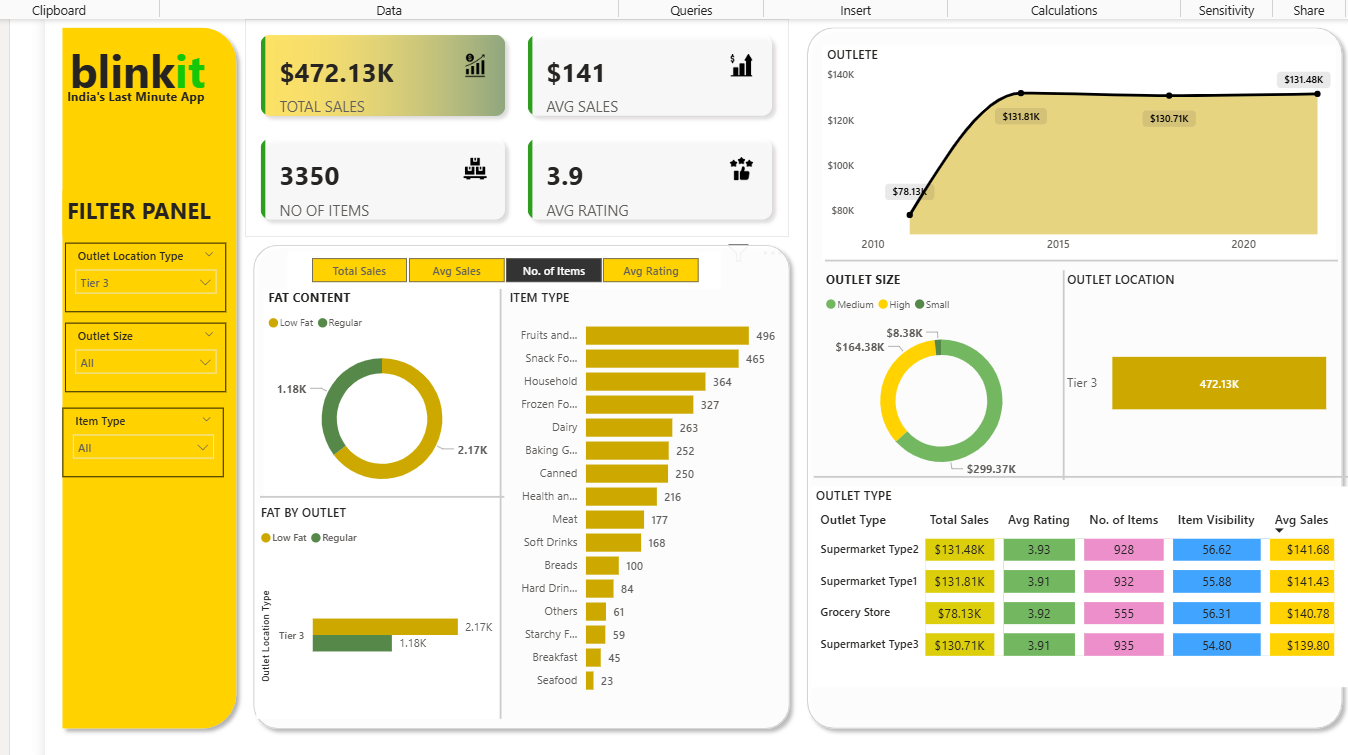

This screenshot's page, from the dashboard's own definition file:
{"tool":"powerbi","page":{"name":"Page 1","canvas":[1400,800],"ordinal":0},"visuals":[{"type":"shape","box":[10,0,205,770],"z":0},{"type":"textbox","box":[19,68,165,65],"z":1000},{"type":"textbox","box":[21,17,163,102],"z":2000},{"type":"cardVisual","fields":{"Data":["BlinkIT Grocery Data.Total Sales","BlinkIT Grocery Data.Avg Sales","BlinkIT Grocery Data.No. of Items","BlinkIT Grocery Data.Avg Rating"]},"box":[215,0,583,233],"z":3000},{"type":"shape","box":[215,233,593,537],"z":4000},{"type":"donutChart","title":"FAT CONTENT","fields":{"Y":["BlinkIT Grocery Data.No. of Items"],"Category":["BlinkIT Grocery Data.Item Fat Content"]},"box":[234,290,254,233],"z":5000},{"type":"slicer","fields":{"Values":["Metrics.Metrics"]},"box":[260,249,465,40],"z":6000},{"type":"clusteredBarChart","title":"FAT BY OUTLET","fields":{"Y":["BlinkIT Grocery Data.No. of Items"],"Category":["BlinkIT Grocery Data.Outlet Location Type"],"Series":["BlinkIT Grocery Data.Item Fat Content"]},"box":[226,520,262,230],"z":7000},{"type":"shape","box":[482,290,12,461],"z":8000},{"type":"shape","box":[230,429,262,167],"z":9000},{"type":"barChart","title":"ITEM TYPE","fields":{"Y":["BlinkIT Grocery Data.No. of Items"],"Category":["BlinkIT Grocery Data.Item Type"]},"box":[493,289,296,445],"z":10000},{"type":"shape","box":[808,0,592,770],"z":11000},{"type":"lineChart","title":"OUTLETE","fields":{"Category":["BlinkIT Grocery Data.Outlet Establishment Year"],"Y":["BlinkIT Grocery Data.Total Sales"]},"box":[834,28,550,232],"z":12000},{"type":"shape","box":[837,176,550,167],"z":13000},{"type":"donutChart","title":"OUTLET SIZE","fields":{"Y":["BlinkIT Grocery Data.Total Sales"],"Category":["BlinkIT Grocery Data.Outlet Size"]},"box":[833,269,258,235],"z":14000},{"type":"shape","box":[1080,269,24,225],"z":15000},{"type":"funnel","title":"OUTLET LOCATION","fields":{"Category":["BlinkIT Grocery Data.Outlet Location Type"],"Y":["Sum(BlinkIT Grocery Data.Sales)"]},"box":[1091,269,293,224],"z":16000},{"type":"shape","box":[824,407,576,167],"z":17000},{"type":"pivotTable","title":"OUTLET TYPE","fields":{"Rows":["BlinkIT Grocery Data.Outlet Type"],"Values":["BlinkIT Grocery Data.Total Sales","BlinkIT Grocery Data.Avg Rating","BlinkIT Grocery Data.No. of Items","Sum(BlinkIT Grocery Data.Item Visibility)","BlinkIT Grocery Data.Avg Sales"]},"box":[822,502,578,215],"z":18000},{"type":"slicer","fields":{"Values":["BlinkIT Grocery Data.Outlet Location Type"]},"box":[21,240,173,74],"z":19000},{"type":"slicer","fields":{"Values":["BlinkIT Grocery Data.Outlet Size"]},"box":[21,326,173,74],"z":20000},{"type":"slicer","fields":{"Values":["BlinkIT Grocery Data.Item Type"]},"box":[19,417,173,74],"z":21000},{"type":"textbox","box":[19,184,175,49],"z":22000}]}

Visuals, with their boxes on the page's 1400x800 design canvas (x1, y1, x2, y2). These are canvas units, not pixel positions in the 1348x755 screenshot, which may show the page scaled, cropped or inside an application window:
shape: (x1=10, y1=0, x2=215, y2=770)
textbox: (x1=19, y1=68, x2=184, y2=133)
textbox: (x1=21, y1=17, x2=184, y2=119)
cardVisual - BlinkIT Grocery Data.Total Sales x BlinkIT Grocery Data.Avg Sales: (x1=215, y1=0, x2=798, y2=233)
shape: (x1=215, y1=233, x2=808, y2=770)
"FAT CONTENT" donutChart: (x1=234, y1=290, x2=488, y2=523)
slicer - Metrics.Metrics: (x1=260, y1=249, x2=725, y2=289)
"FAT BY OUTLET" clusteredBarChart: (x1=226, y1=520, x2=488, y2=750)
shape: (x1=482, y1=290, x2=494, y2=751)
shape: (x1=230, y1=429, x2=492, y2=596)
"ITEM TYPE" barChart: (x1=493, y1=289, x2=789, y2=734)
shape: (x1=808, y1=0, x2=1400, y2=770)
"OUTLETE" lineChart: (x1=834, y1=28, x2=1384, y2=260)
shape: (x1=837, y1=176, x2=1387, y2=343)
"OUTLET SIZE" donutChart: (x1=833, y1=269, x2=1091, y2=504)
shape: (x1=1080, y1=269, x2=1104, y2=494)
"OUTLET LOCATION" funnel: (x1=1091, y1=269, x2=1384, y2=493)
shape: (x1=824, y1=407, x2=1400, y2=574)
"OUTLET TYPE" pivotTable: (x1=822, y1=502, x2=1400, y2=717)
slicer - BlinkIT Grocery Data.Outlet Location Type: (x1=21, y1=240, x2=194, y2=314)
slicer - BlinkIT Grocery Data.Outlet Size: (x1=21, y1=326, x2=194, y2=400)
slicer - BlinkIT Grocery Data.Item Type: (x1=19, y1=417, x2=192, y2=491)
textbox: (x1=19, y1=184, x2=194, y2=233)
